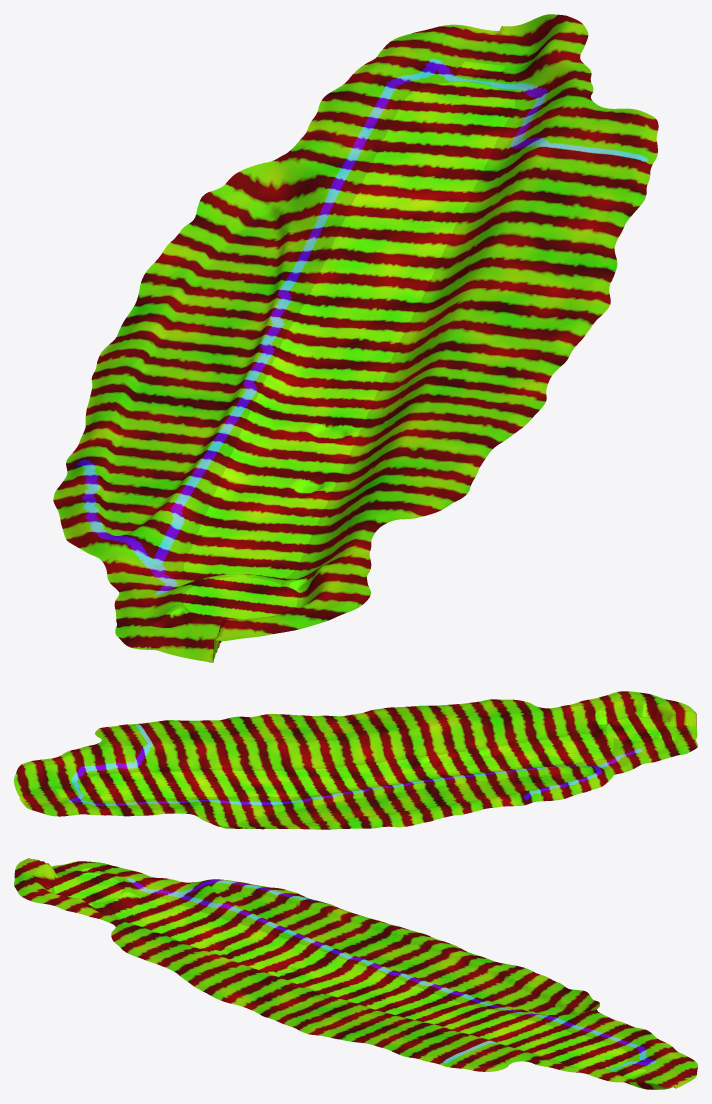
Rendered from SM_H09_IslandTop.fbx.
3 views of the same model, one above another, from view 1: azimuth 30°, elevation 25°; view 2: azimuth 150°, elevation 25°; view 3: azimuth 270°, elevation 25° (orthographic). The views are drawn at different scales.
Visible parts, largest first — view 1: SM_H09_IslandTop; view 2: SM_H09_IslandTop; view 3: SM_H09_IslandTop.
Part boxes in pixels (left/top/right/bottom): SM_H09_IslandTop: left=53, top=14, right=658, bottom=662; SM_H09_IslandTop: left=14, top=691, right=697, bottom=829; SM_H09_IslandTop: left=14, top=858, right=697, bottom=1089.
Size of the model in its own units: 292 by 25.01 by 316.
